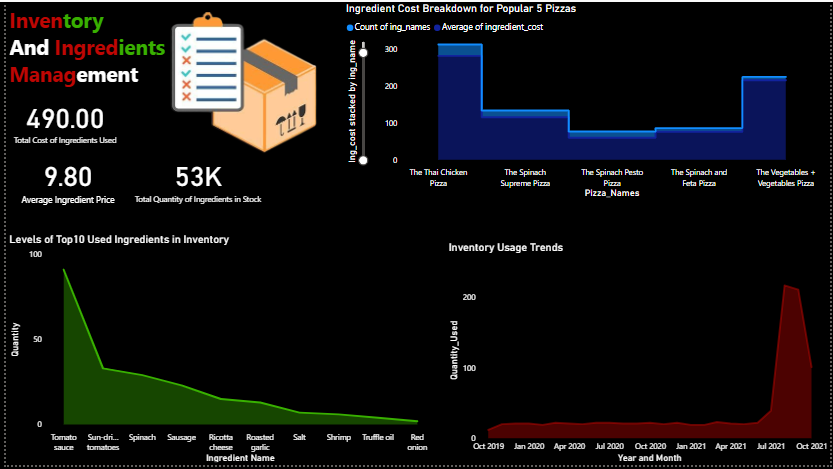

This screenshot's page, from the dashboard's own definition file:
{"tool":"powerbi","page":{"name":"Inventory and Ingredients Management","canvas":[1280,720],"ordinal":2},"visuals":[{"type":"lineChart","title":"Levels of Top10 Used Ingredients in Inventory","fields":{"Category":["ingredient.ing_name"],"Y":["CountNonNull(inventory.quantity)"]},"box":[0,358.3,672,361.9],"z":0},{"type":"stackedAreaChart","title":"Ingredient Cost Breakdown for Popular 5 Pizzas","fields":{"Category":["Query2.pizza_name"],"Y":["CountNonNull(Query2.ing_names)","Avg(Query2.ingredient_cost)"]},"box":[522.4,0,757.6,308.8],"z":1000},{"type":"areaChart","title":"Inventory Usage Trends","fields":{"Category":["orders.D_date.Variation.Date Hierarchy.Year","orders.D_date.Variation.Date Hierarchy.Quarter","orders.D_date.Variation.Date Hierarchy.Month","orders.D_date.Variation.Date Hierarchy.Day"],"Y":["CountNonNull(inventory.quantity)"]},"box":[682.8,370.4,597.2,349.9],"z":2000},{"type":"card","fields":{"Values":["Sum(inventory.quantity)"]},"box":[193,226.8,209.9,96.5],"z":3000},{"type":"card","fields":{"Values":["Sum(ingredient.ing_price)"]},"box":[0,135.1,183.4,96.5],"z":4000},{"type":"card","fields":{"Values":["Avg(ingredient.ing_price)"]},"box":[0,229.2,191.8,91.7],"z":5000},{"type":"textbox","box":[0,0,279.9,159.3],"z":6000},{"type":"image","box":[183.4,0,363.1,252.1],"z":7000}]}

Visuals, with their boxes in screenshot pixels (x1, y1, x2, y2), scaled from the page's 1280x720 canvas onto the 833x469 screenshot:
"Levels of Top10 Used Ingredients in Inventory" lineChart: box=[0, 233, 437, 468]
"Ingredient Cost Breakdown for Popular 5 Pizzas" stackedAreaChart: box=[340, 0, 832, 201]
"Inventory Usage Trends" areaChart: box=[444, 241, 832, 468]
card - Sum(inventory.quantity): box=[126, 148, 262, 211]
card - Sum(ingredient.ing_price): box=[0, 88, 119, 151]
card - Avg(ingredient.ing_price): box=[0, 149, 125, 209]
textbox: box=[0, 0, 182, 104]
image: box=[119, 0, 356, 164]
